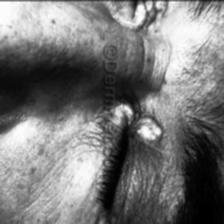Unclassified: (119, 87, 172, 136), (115, 0, 175, 29), (74, 207, 128, 224)
